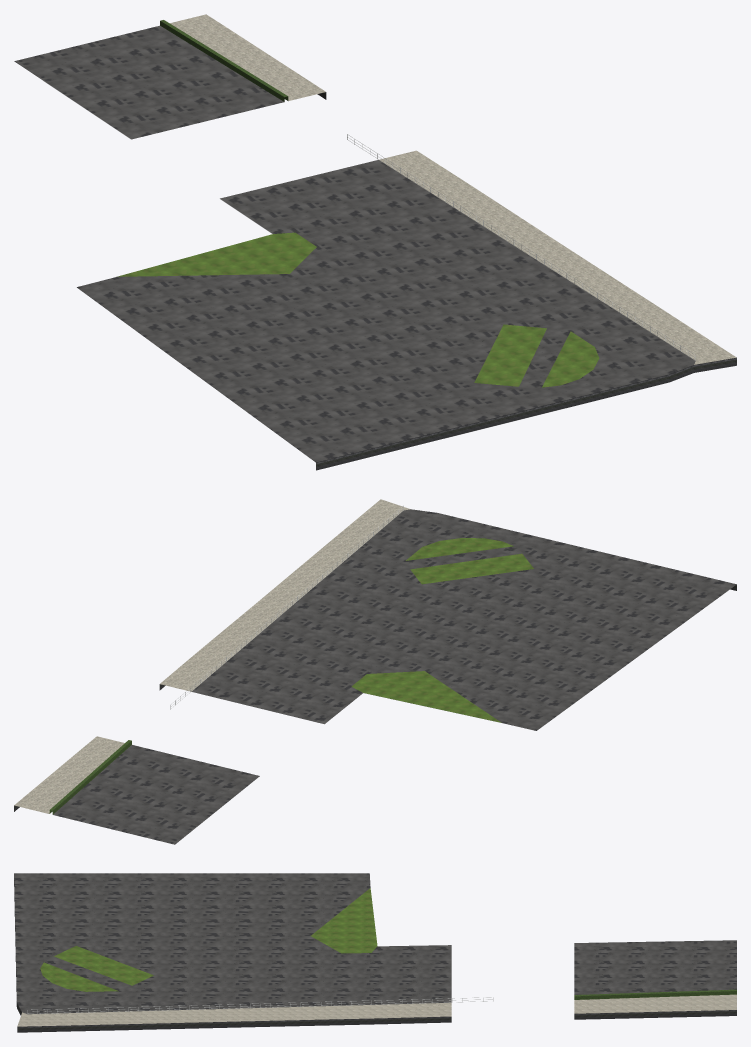
The model's file is SM_Mirabello_Fondale_v2.fbx.
3 renders of one model, top to bottom at view 1: azimuth 30°, elevation 25°; view 2: azimuth 150°, elevation 25°; view 3: azimuth 270°, elevation 25°, orthographic. The views are drawn at different scales.
Parts seen in each view (by area): view 1: SM_Mirabello_Fondale_v2; view 2: SM_Mirabello_Fondale_v2; view 3: SM_Mirabello_Fondale_v2.
Part boxes in pixels (x1,y1,x2,y2): SM_Mirabello_Fondale_v2: [14, 14, 736, 470]; SM_Mirabello_Fondale_v2: [14, 499, 736, 844]; SM_Mirabello_Fondale_v2: [14, 873, 736, 1032].
Size of what is drawn, in the model's own units: 8880 by 17680 by 280.
6 materials, 6 textured.
